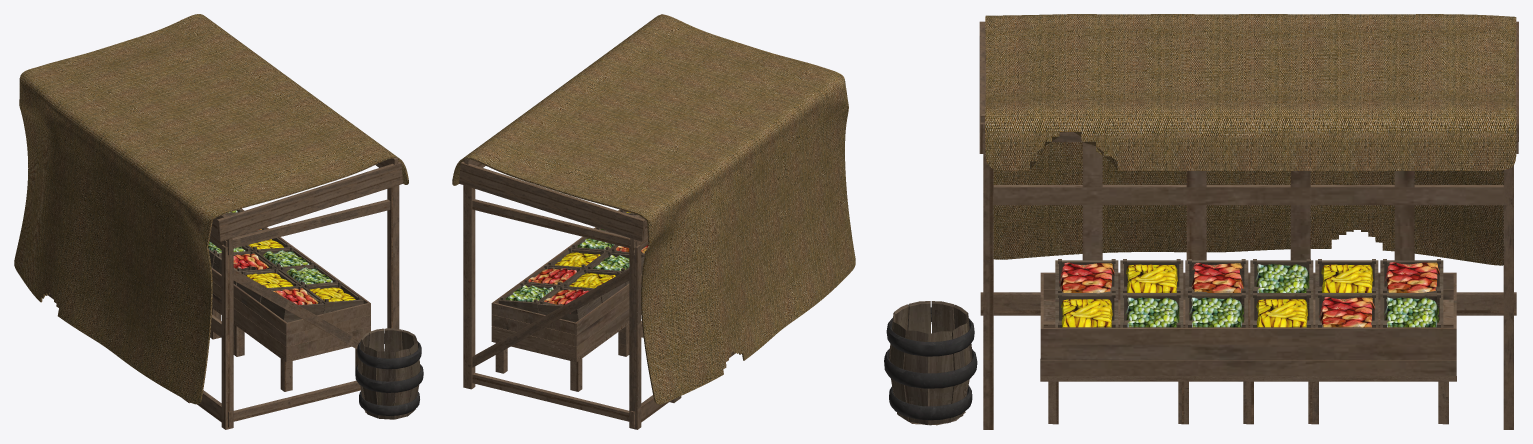
File: stall.glb
3 views of the same model, side by side, from view 1: azimuth 30°, elevation 25°; view 2: azimuth 150°, elevation 25°; view 3: azimuth 270°, elevation 25° (orthographic). The views are drawn at different scales.
Parts seen in each view (by area): view 1: Stall, Food, Barrel_2; view 2: Stall, Food; view 3: Stall, Food, Barrel_2.
Boxes of the visible parts, x1,y1,x2,y2 form: Stall: [14, 14, 408, 429]; Food: [208, 208, 370, 391]; Barrel_2: [355, 328, 423, 419]; Stall: [452, 14, 855, 429]; Food: [491, 209, 648, 391]; Stall: [979, 14, 1518, 429]; Food: [1040, 259, 1456, 424]; Barrel_2: [884, 301, 977, 425].
Bounding box in the file's own units: 2.73 × 2.68 × 4.88.
Materials: 7 (7 with a texture image).
